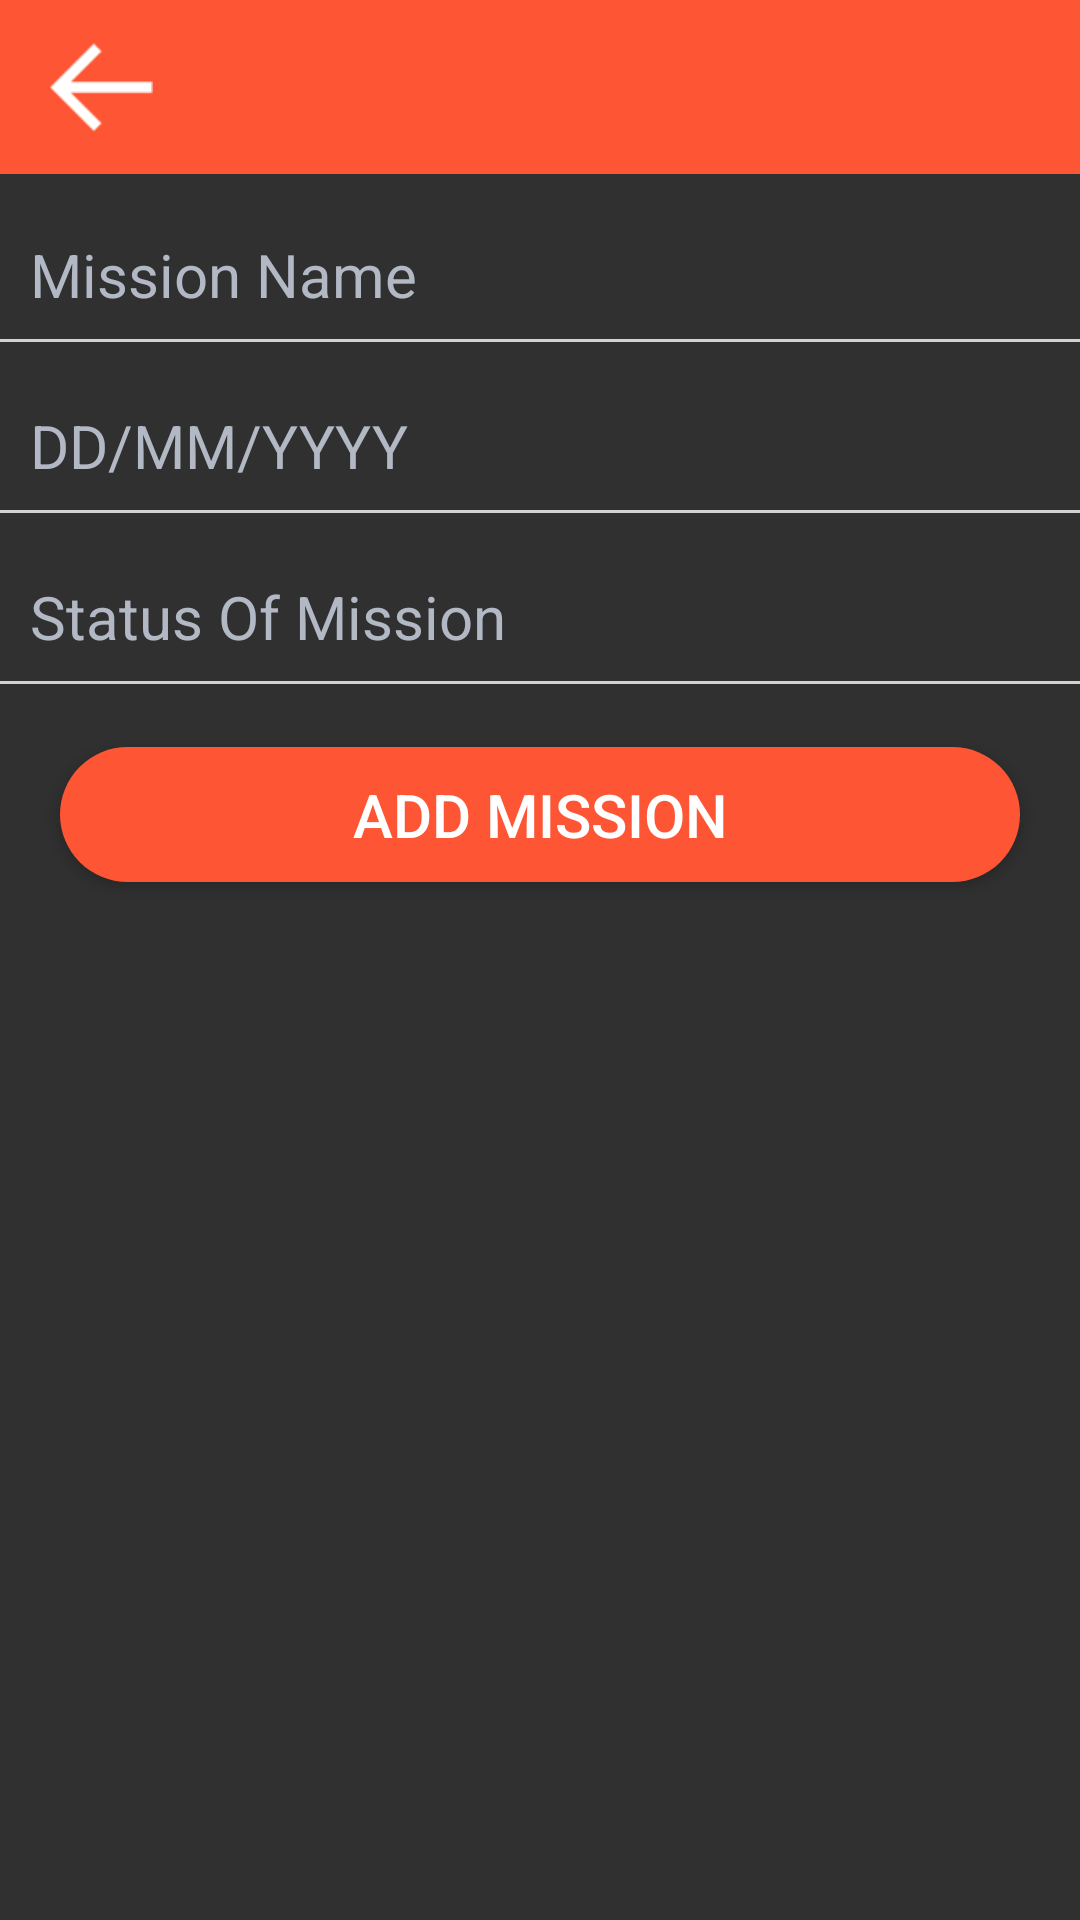

Screen size 1080×1920. Icon name, then its center in pixels as point (x, y):
back: point (101, 87)
